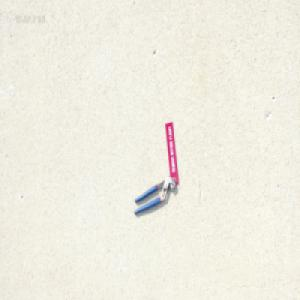Label: (165, 120, 179, 183)
Pliers: (133, 177, 176, 215)
